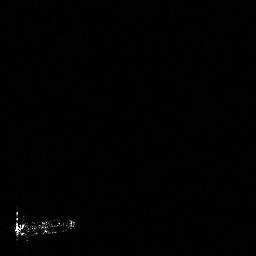ship: (15, 217, 77, 237)
